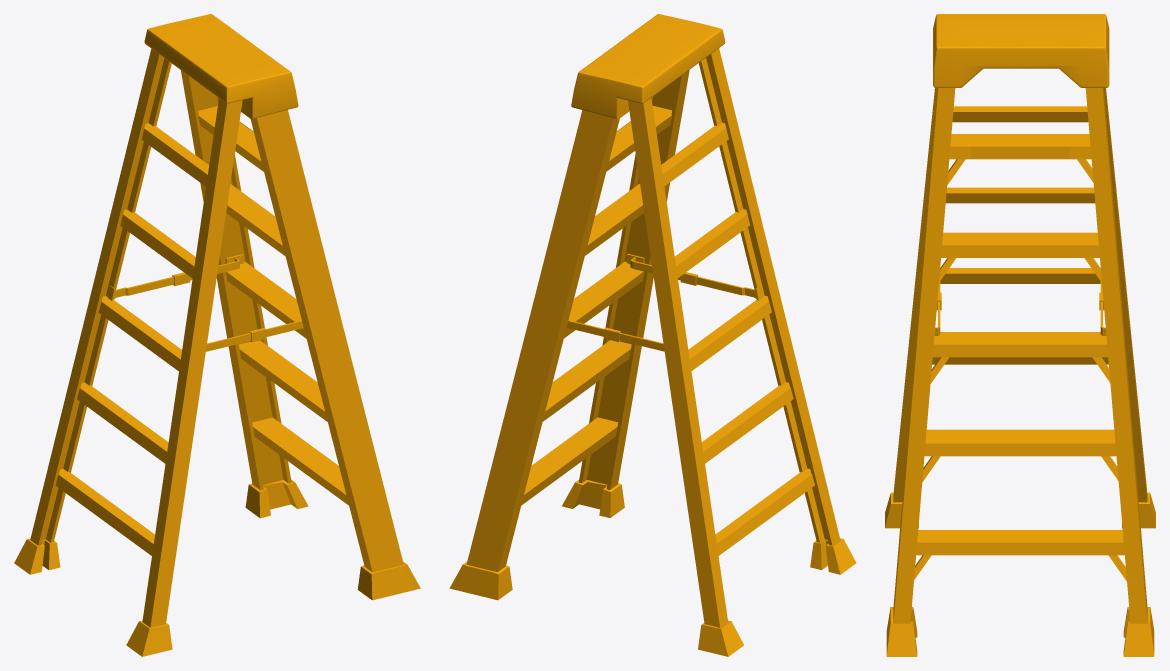
The model's file is ladder.gltf.
3 renders of one model, left to right at view 1: azimuth 30°, elevation 25°; view 2: azimuth 150°, elevation 25°; view 3: azimuth 270°, elevation 25°, orthographic. The views are drawn at different scales.
Parts seen in each view (by area): view 1: LeftLegs, LeftLegs1, ladderTop, InfoSticker, step01, step02, backRung01, backRung02, step03, backRung03, step04, backRung04 (+4 smaller); view 2: LeftLegs1, LeftLegs, ladderTop, step01, step02, backRung01, step03, backRung02, backRung03, step04, backRung04, backRung05 (+3 smaller); view 3: LeftLegs1, LeftLegs, ladderTop, step01, step02, step03, step04, step05, backRung04, backRung03, backRung05, backRung02 (+1 smaller).
Part boxes in pixels (x1,y1,x2,y2): LeftLegs: (126, 98, 420, 656); LeftLegs1: (14, 48, 308, 574); ladderTop: (144, 14, 298, 119); InfoSticker: (261, 113, 326, 281); step01: (252, 417, 348, 505); step02: (239, 340, 327, 421); backRung01: (55, 469, 154, 555); backRung02: (77, 382, 168, 463); step03: (226, 261, 306, 338); backRung03: (98, 296, 181, 371); step04: (226, 184, 285, 256); backRung04: (120, 209, 195, 278); LeftLegs1: (449, 98, 743, 656); LeftLegs: (562, 48, 856, 574); ladderTop: (571, 14, 725, 119); step01: (521, 417, 618, 505); step02: (542, 340, 631, 421); backRung01: (715, 468, 814, 555); step03: (564, 261, 644, 338); backRung02: (702, 382, 793, 463); backRung03: (688, 295, 771, 370); step04: (585, 183, 644, 255); backRung04: (674, 209, 749, 277); backRung05: (661, 122, 728, 186); LeftLegs1: (1085, 88, 1155, 656); LeftLegs: (885, 88, 955, 656); ladderTop: (933, 14, 1109, 87); step01: (914, 530, 1126, 581); step02: (922, 431, 1118, 481); step03: (930, 332, 1110, 383); step04: (939, 232, 1101, 282); step05: (947, 134, 1093, 184); backRung04: (945, 187, 1095, 203); backRung03: (940, 268, 1100, 283); backRung05: (952, 106, 1088, 122); backRung02: (932, 357, 1108, 364).
Bounding box in the file's own units: 0.1924 × 0.346 × 0.1528.
